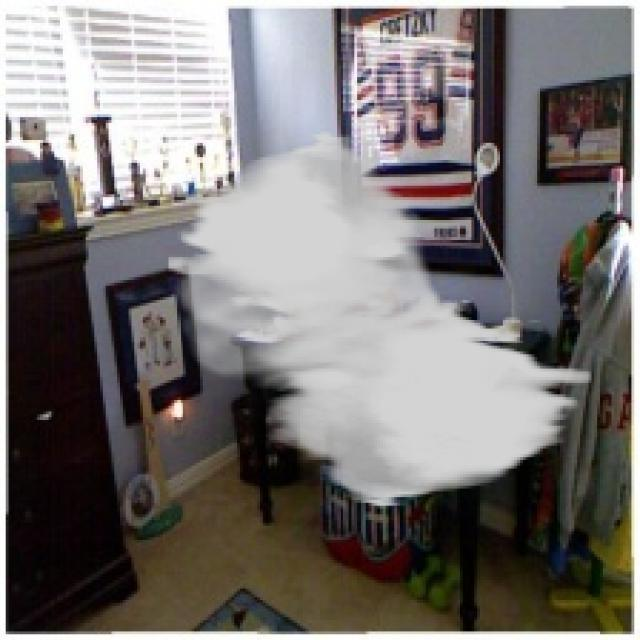Smoke: (166, 128, 592, 508)
